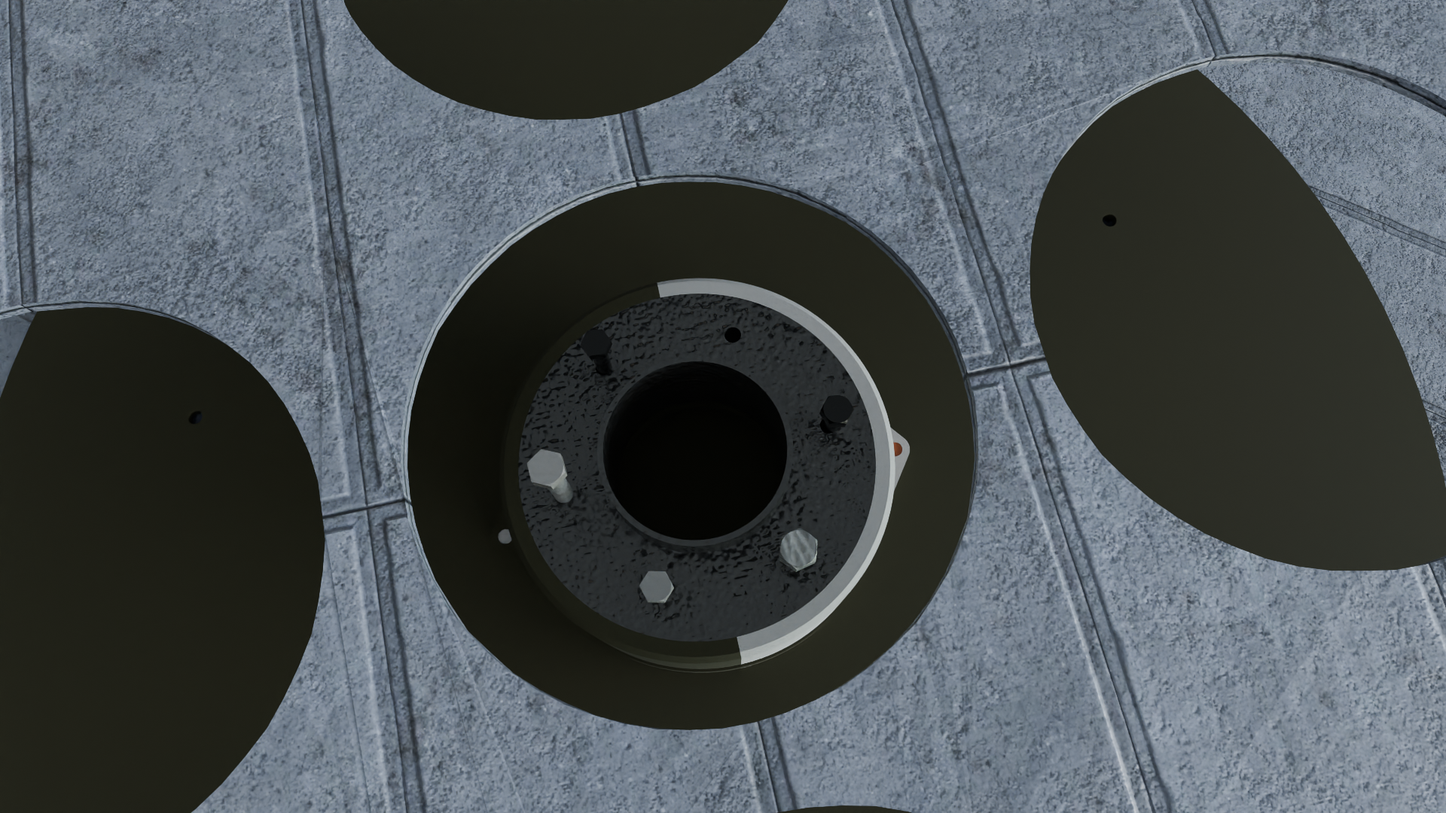bolt: (779, 528, 817, 570), (527, 449, 566, 486), (639, 571, 673, 601), (821, 395, 854, 424), (581, 329, 611, 356)
